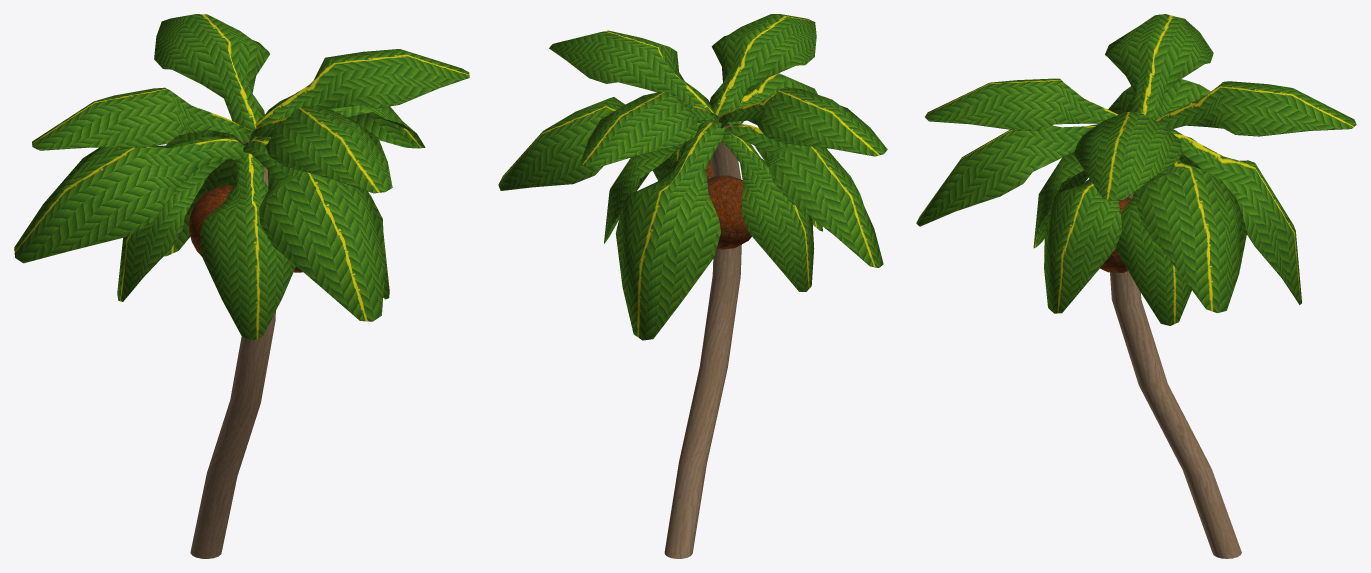
The model's file is palmtreefinal3.fbx.
3 views of the same model, side by side, from view 1: azimuth 30°, elevation 25°; view 2: azimuth 150°, elevation 25°; view 3: azimuth 270°, elevation 25° (orthographic). The views are drawn at different scales.
Parts seen in each view (by area): view 1: Plane.008, Plane.011, Plane.002, Plane.004, Plane.006, Plane.005, Plane.007, treetrunk, Plane.003, Plane.009, Plane, Coconut; view 2: Plane, treetrunk, Plane.011, Plane.003, Plane.007, Plane.004, Plane.006, Plane.005, Plane.009, Coconut, Plane.010, Plane.008; view 3: Plane.009, treetrunk, Plane.008, Plane.001, Plane.005, Plane.007, Plane.006, Plane.004, Plane, Plane.010, Plane.002, Plane.011.
Part boxes in pixels (x1,y1,x2,y2): Plane.008: (243, 136, 384, 321); Plane.011: (14, 134, 244, 263); Plane.002: (200, 152, 295, 340); Plane.004: (32, 87, 251, 150); Plane.006: (255, 49, 469, 137); Plane.005: (154, 14, 269, 131); Plane.007: (249, 105, 392, 193); treetrunk: (190, 136, 275, 558); Plane.003: (117, 160, 225, 301); Plane.009: (268, 89, 425, 148); Plane: (164, 130, 236, 256); Coconut: (189, 185, 233, 256); Plane: (615, 122, 725, 340); treetrunk: (664, 121, 741, 558); Plane.011: (723, 123, 883, 267); Plane.003: (721, 134, 814, 291); Plane.007: (709, 14, 816, 116); Plane.004: (719, 87, 887, 156); Plane.006: (549, 30, 715, 123); Plane.005: (580, 91, 719, 167); Plane.009: (498, 97, 701, 190); Coconut: (707, 175, 751, 249); Plane.010: (604, 143, 684, 243); Plane.008: (727, 73, 817, 124); Plane.009: (1136, 159, 1247, 312); treetrunk: (1110, 193, 1241, 558); Plane.008: (916, 124, 1097, 226); Plane.001: (1044, 179, 1122, 313); Plane.005: (1156, 81, 1356, 136); Plane.007: (925, 78, 1118, 130); Plane.006: (1074, 111, 1182, 200); Plane.004: (1105, 14, 1213, 120); Plane: (1169, 130, 1301, 304); Plane.010: (1116, 180, 1191, 325); Plane.002: (1033, 151, 1088, 248); Plane.011: (1108, 79, 1210, 117).
Bounding box in the file's own units: 849 × 994 × 834.
